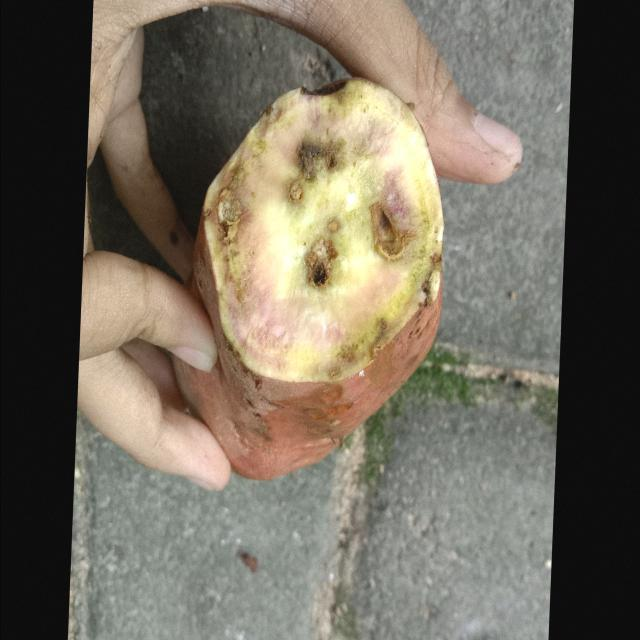Sick Sweet Potato_Tuber Rot: (202, 80, 442, 382)
